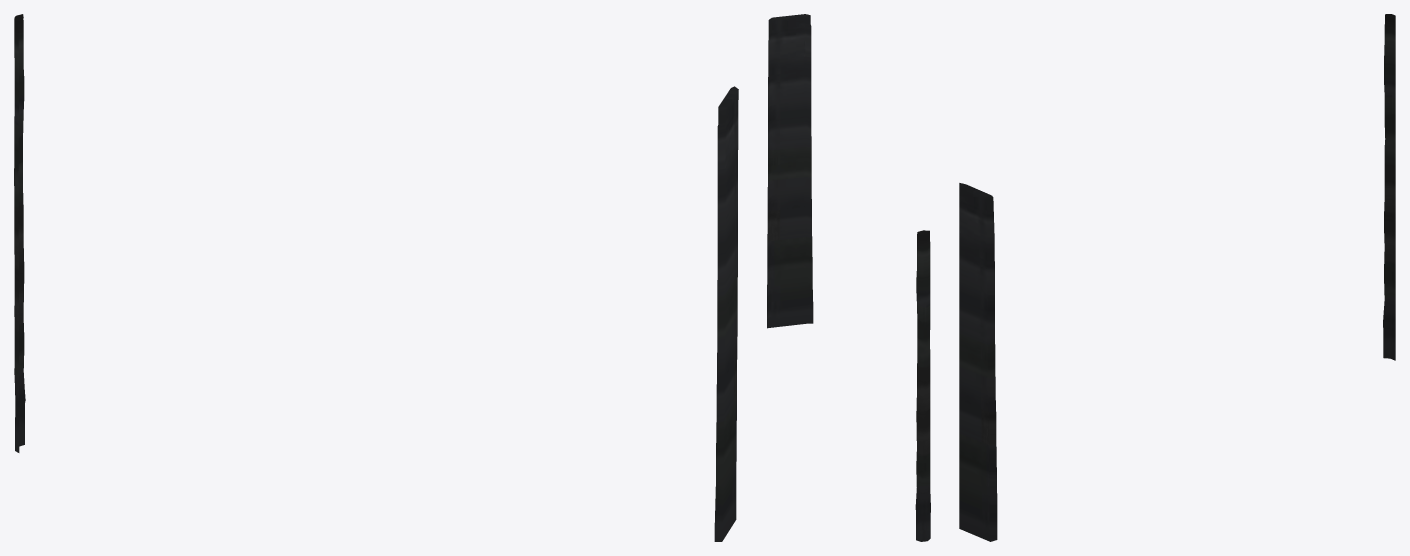
Rendered from z20-167777-405236-h1-yup-uvflip-v3-world.glb.
3 renders of one model, left to right at view 1: azimuth 30°, elevation 25°; view 2: azimuth 150°, elevation 25°; view 3: azimuth 270°, elevation 25°, orthographic. The views are drawn at different scales.
Bounding box in the file's own units: 30.16 × 26.44 × 30.32.
1 material, 1 textured.
